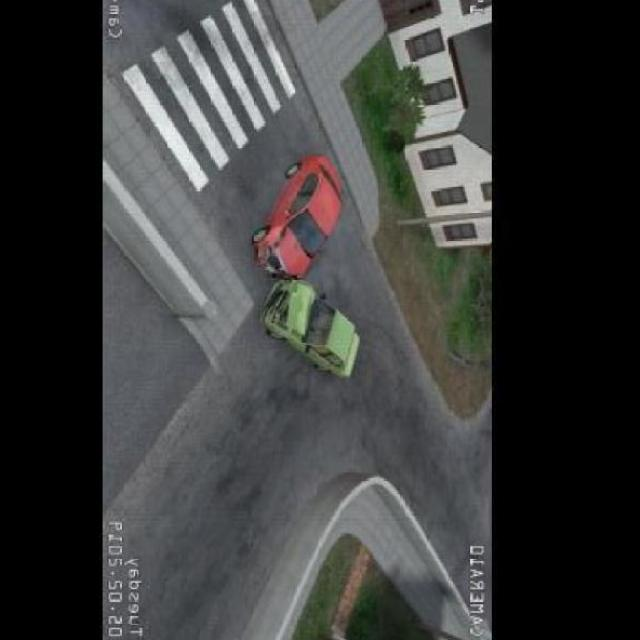accident: (247, 150, 351, 366)
